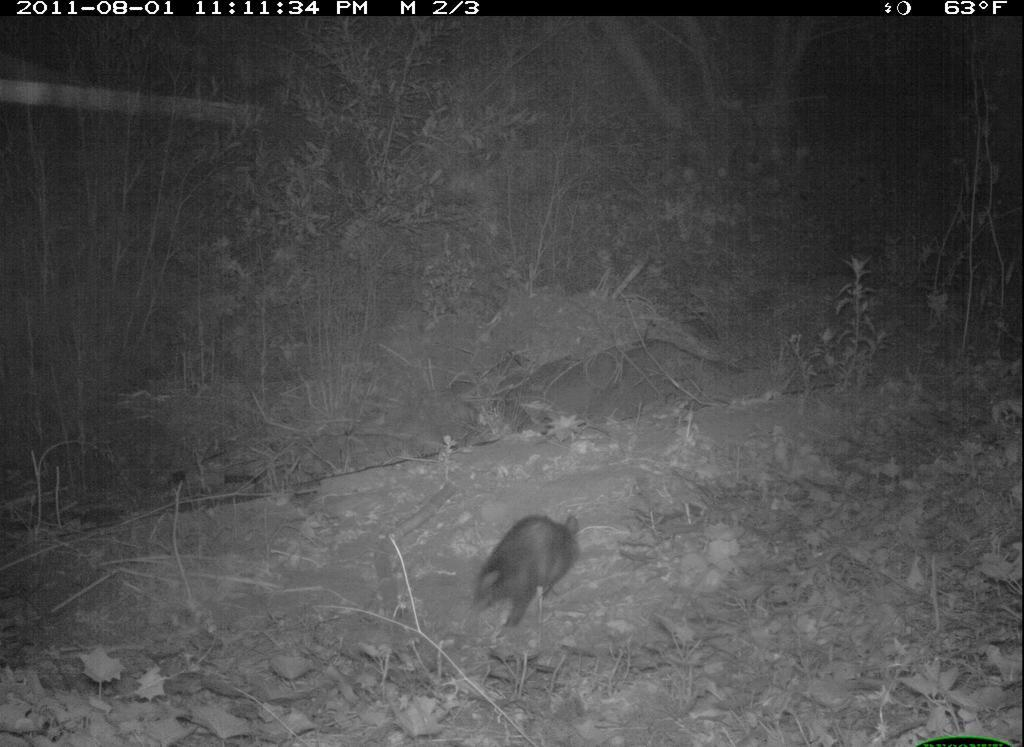opossum: (468, 505, 591, 637)
